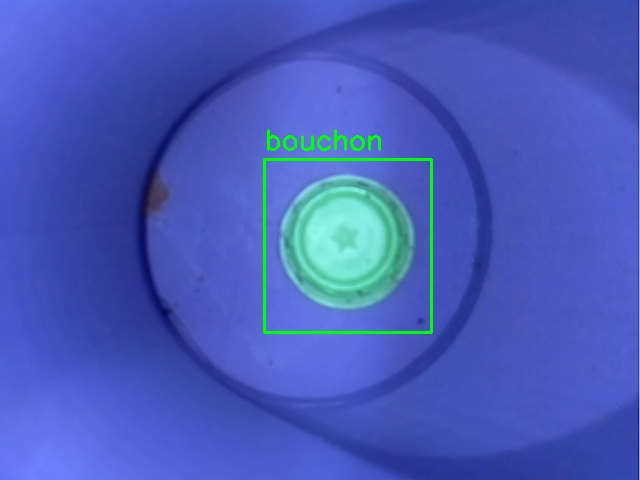bouchon: (264, 159, 431, 332)
